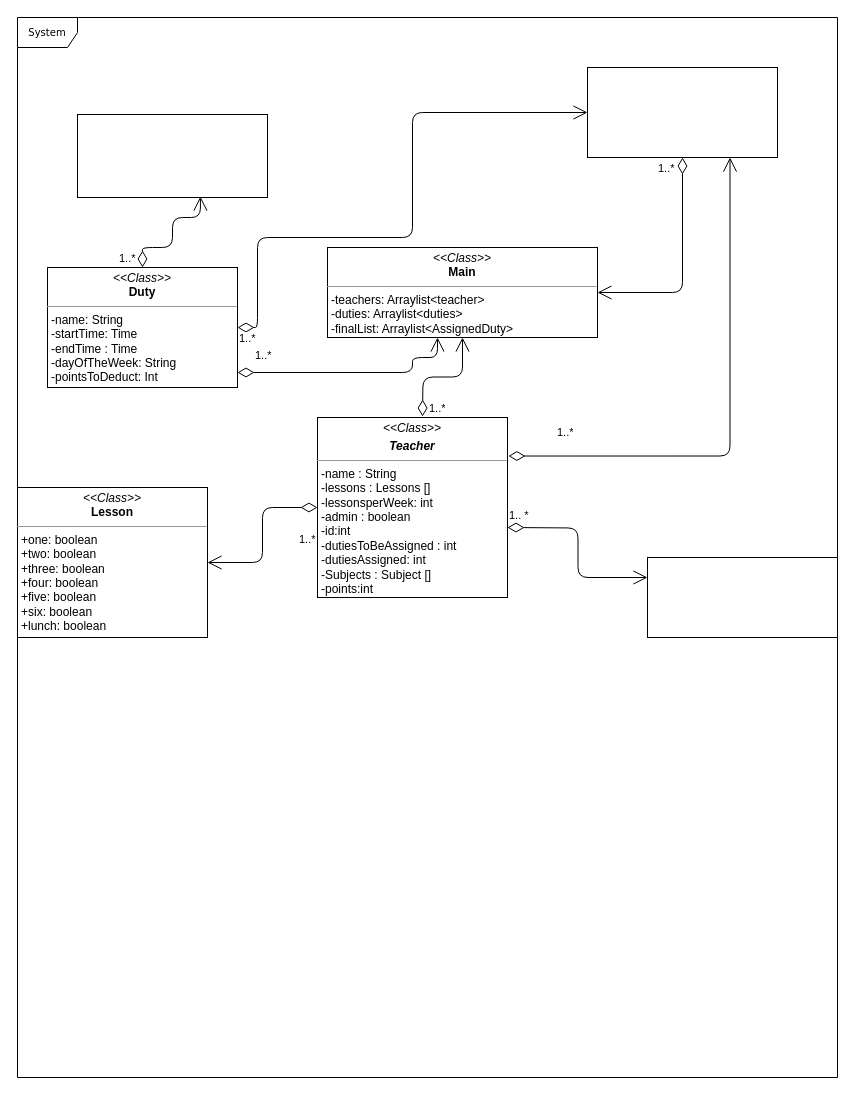
Image size: 855x1095. Some labels were removed from this diagram. Each missing label, with the centre of its shape:
<<Class>> AssignedDuty -duty : Duty -teacherAssigned : Teacher: (682,112)
<<Class>> Subject name: String meetingDay : String: (742,597)
<<Class>> Time - Hours: Int - Minutes: Int: (172,156)
